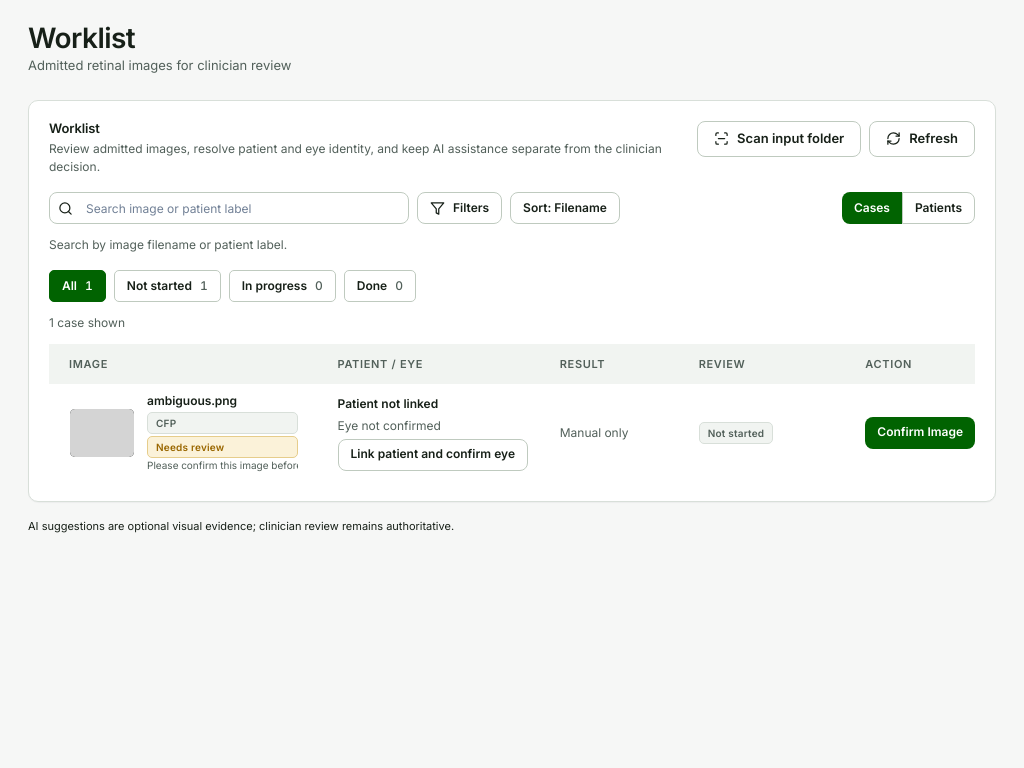
Test: image admission UI › shows plain-language admission status and scans the input folder
This screenshot has width=1024, height=768.
Expected: the text "Needs review" is shown, x1=147 y1=436 x2=298 y2=458
Expected: the text "Please confirm this image before analysis." is shown, x1=147 y1=458 x2=298 y2=473
Click the button "Scan input folder".
click(779, 138)  # box x1=697 y1=120 x2=861 y2=156
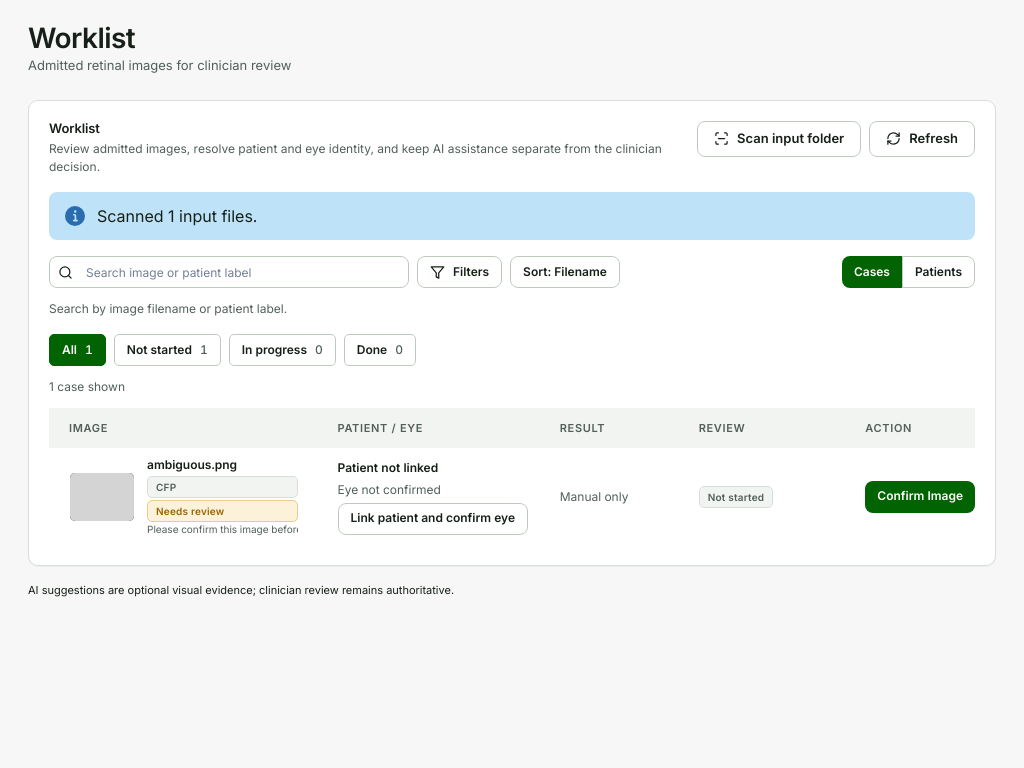
Result: the text "Scanned 1 input files." is shown at x1=97 y1=204 x2=258 y2=228
